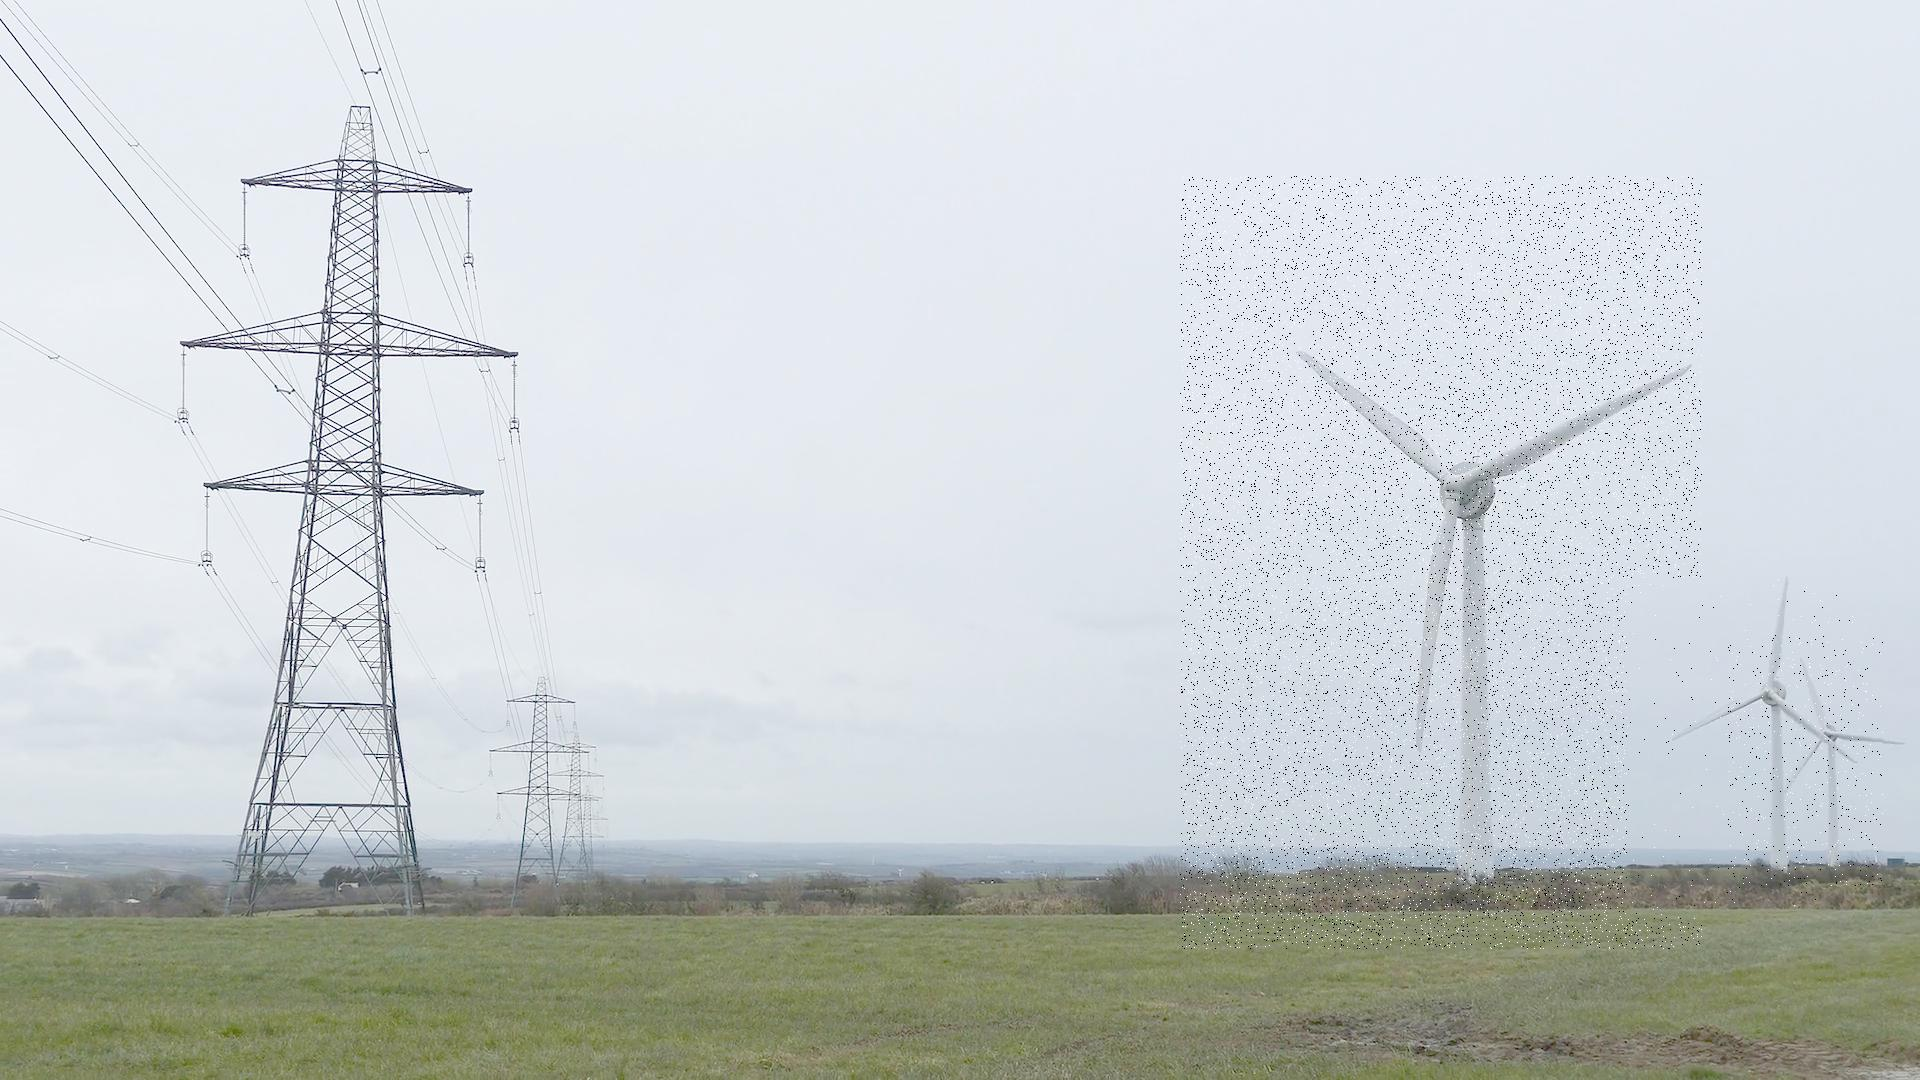cable tower: (175, 104, 522, 920), (493, 676, 587, 916), (549, 735, 603, 891), (568, 791, 607, 884)
turbine: (1180, 175, 1702, 949), (1627, 579, 1857, 918), (1727, 633, 1883, 887)
